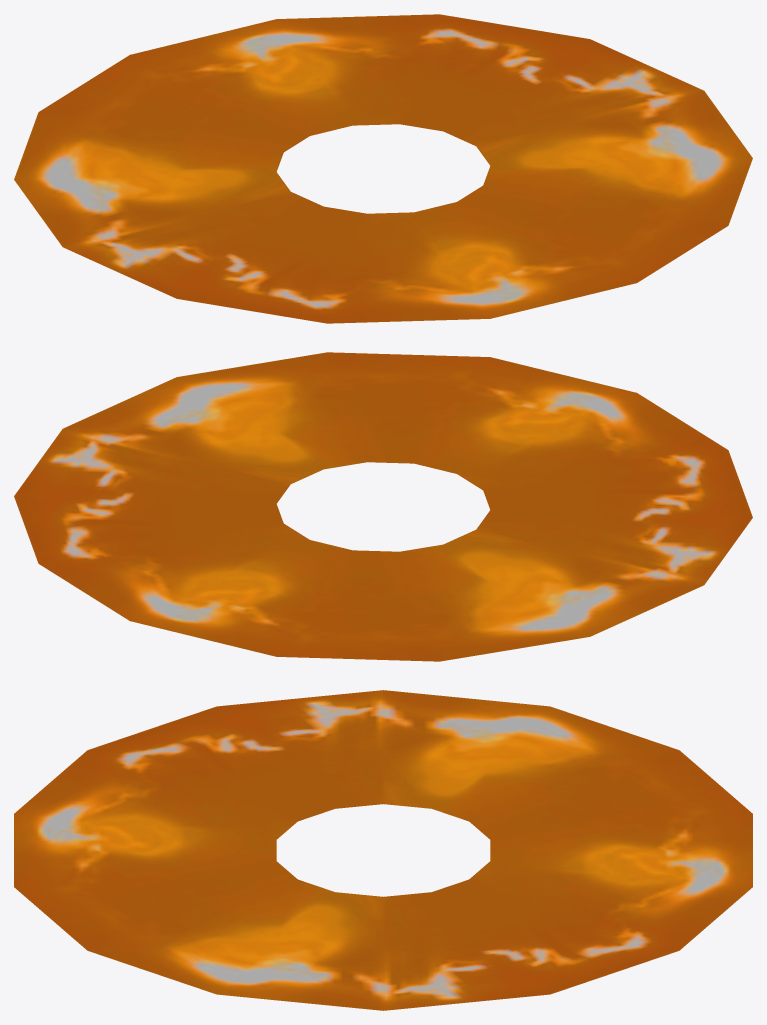
File: fuhuo_5.FBX
3 renders of one model, top to bottom at view 1: azimuth 30°, elevation 25°; view 2: azimuth 150°, elevation 25°; view 3: azimuth 270°, elevation 25°, orthographic. The views are drawn at different scales.
Visible parts, largest first — view 1: 5_1; view 2: 5_1; view 3: 5_1.
Part boxes in pixels (box(x1,y1,x2,y2)): 5_1: box(14, 14, 752, 323); 5_1: box(14, 352, 752, 661); 5_1: box(14, 690, 752, 1010).
Size of the model in its own units: 4.13 by 0 by 4.02.
Materials: 1 (1 with a texture image).
